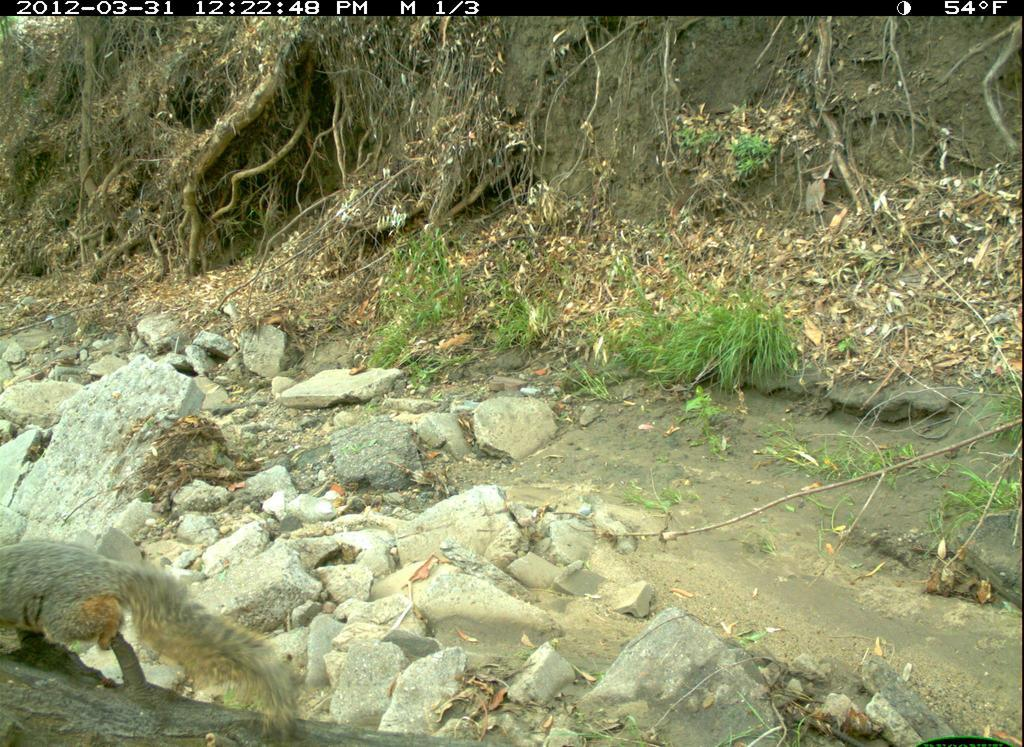squirrel: (3, 529, 323, 739)
